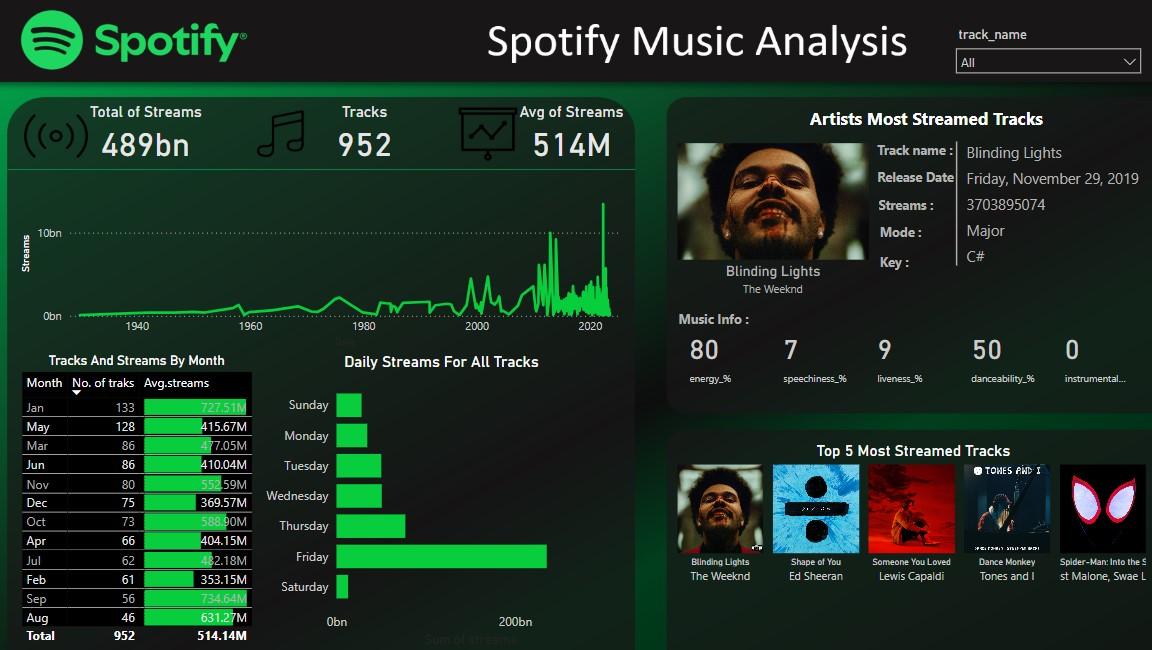

Layout of this report page (visuals, bound fields, positions):
{"tool":"powerbi","page":{"name":"Page 1","canvas":[1280,720],"ordinal":0},"visuals":[{"type":"card","title":"Total of Streams","fields":{"Values":["Sum(Spotify Most Streamed Songs 2023 Dataset xlsx - Spotify Dataset.streams)"]},"box":[93.3,116.6,157.8,67.2],"z":0},{"type":"card","title":"Tracks","fields":{"Values":["CountNonNull(Spotify Most Streamed Songs 2023 Dataset xlsx - Spotify Dataset.track_name)"]},"box":[333.4,116.6,157.8,67.2],"z":1000},{"type":"card","title":"Avg of Streams","fields":{"Values":["Avg(Spotify Most Streamed Songs 2023 Dataset xlsx - Spotify Dataset.streams)"]},"box":[569.5,116.6,140,67.2],"z":2000},{"type":"lineChart","fields":{"Category":["Calender.Date"],"Y":["Sum(Spotify Most Streamed Songs 2023 Dataset xlsx - Spotify Dataset.streams)"]},"box":[30.2,200.3,669.6,190.7],"z":3000},{"type":"tableEx","title":"Tracks And Streams By Month","fields":{"Values":["Calender.MonthName","Spotify Dataset.track_name","Avg(Spotify Dataset.streams)"]},"box":[30.2,391.1,263.5,329.3],"z":4000},{"type":"clusteredBarChart","title":"Daily Streams For All Tracks","fields":{"Y":["Sum(Spotify Dataset.streams)"],"Category":["Calender.DayName"]},"box":[293.7,391.1,406.2,329.3],"z":5000},{"type":"textbox","box":[896.1,116.6,270.3,38.4],"z":6000},{"type":"advancedSlicerVisual","fields":{"Values":["Spotify Dataset.track_name"]},"box":[749.2,155.1,223.7,273.1],"z":7000},{"type":"multiRowCard","fields":{"Values":["Spotify Dataset.track_name","Spotify Dataset.Date","Sum(Spotify Dataset.streams)","Spotify Dataset.mode","Spotify Dataset.key"]},"box":[1056.6,155.1,218.2,157.8],"z":8000},{"type":"textbox","box":[970.2,155.1,270.3,38.4],"z":9000},{"type":"textbox","box":[970.2,183.9,270.3,38.4],"z":10000},{"type":"textbox","box":[971.5,215.4,270.3,38.4],"z":11000},{"type":"textbox","box":[972.9,244.3,270.3,38.4],"z":12000},{"type":"textbox","box":[972.9,277.2,270.3,38.4],"z":13000},{"type":"cardVisual","fields":{"Data":["Sum(Spotify Dataset.energy_%)","Sum(Spotify Dataset.speechiness_%)","Sum(Spotify Dataset.liveness_%)","Sum(Spotify Dataset.danceability_%)","Sum(Spotify Dataset.instrumentalness_%)"]},"box":[752,344.4,521.4,107],"z":14000},{"type":"textbox","box":[752,340.3,270.3,38.4],"z":15000},{"type":"advancedSlicerVisual","title":"Top 5 Most Streamed Tracks","fields":{"Values":["Spotify Dataset.track_name"]},"box":[749.2,488.5,531,231.9],"z":16000},{"type":"slicer","fields":{"Values":["Spotify Dataset.track_name"]},"box":[1051.1,28.8,223.7,61.7],"z":16001}]}

Visuals, with their boxes in screenshot pixels (x1, y1, x2, y2), scaled from the page's 1280x720 canvas onto the 1152x650 screenshot:
"Total of Streams" card: 84, 105, 226, 166
"Tracks" card: 300, 105, 442, 166
"Avg of Streams" card: 513, 105, 639, 166
lineChart - Calender.Date x Sum(Spotify Most Streamed Songs 2023 Dataset xlsx - Spotify Dataset.streams): 27, 181, 630, 353
"Tracks And Streams By Month" tableEx: 27, 353, 264, 649
"Daily Streams For All Tracks" clusteredBarChart: 264, 353, 630, 649
textbox: 806, 105, 1050, 140
advancedSlicerVisual - Spotify Dataset.track_name: 674, 140, 876, 387
multiRowCard - Spotify Dataset.track_name x Spotify Dataset.Date: 951, 140, 1147, 282
textbox: 873, 140, 1116, 175
textbox: 873, 166, 1116, 201
textbox: 874, 194, 1118, 229
textbox: 876, 221, 1119, 255
textbox: 876, 250, 1119, 285
cardVisual - Sum(Spotify Dataset.energy_%) x Sum(Spotify Dataset.speechiness_%): 677, 311, 1146, 408
textbox: 677, 307, 920, 342
"Top 5 Most Streamed Tracks" advancedSlicerVisual: 674, 441, 1151, 649
slicer - Spotify Dataset.track_name: 946, 26, 1147, 82
